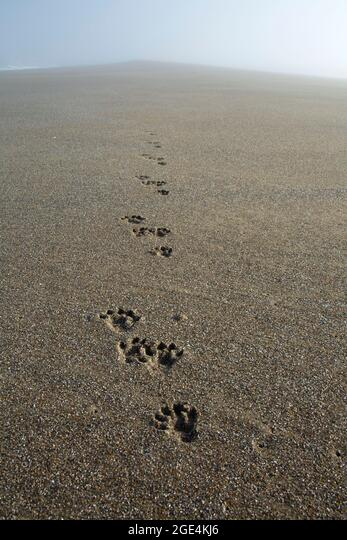coyote: (112, 336, 188, 372), (152, 404, 199, 445), (99, 303, 141, 338)
